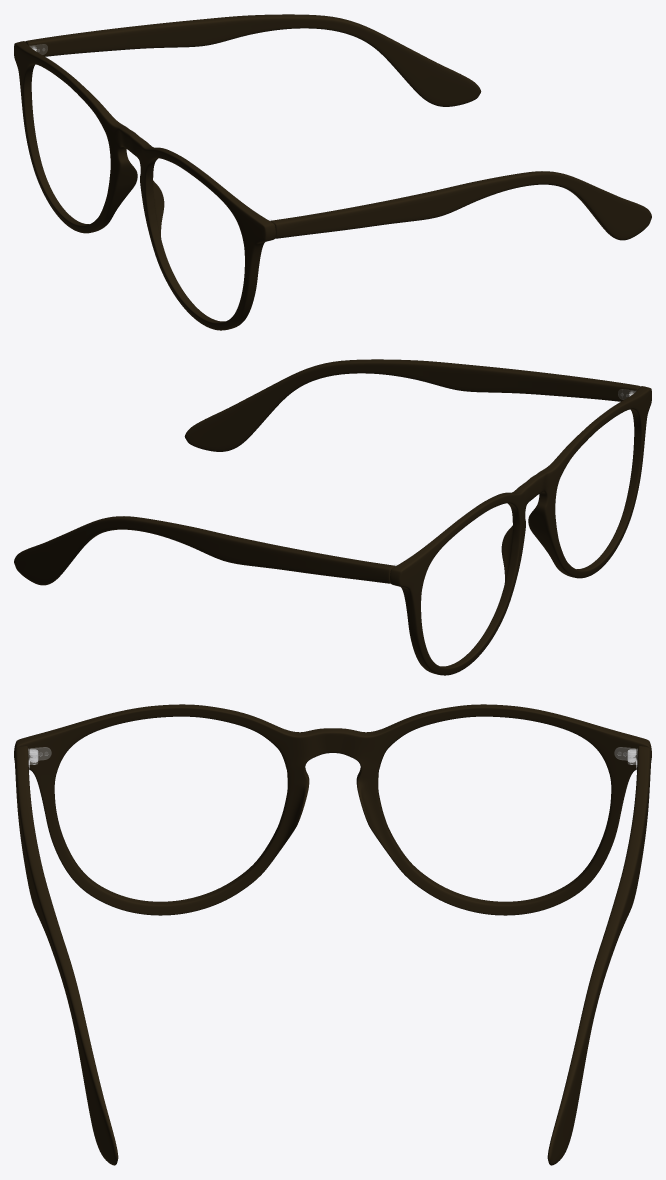
The model's file is glasses.gltf.
3 views of the same model, one above another, from view 1: azimuth 30°, elevation 25°; view 2: azimuth 150°, elevation 25°; view 3: azimuth 270°, elevation 25° (orthographic). The views are drawn at different scales.
Parts seen in each view (by area): view 1: Glasses; view 2: Glasses; view 3: Glasses.
Boxes of the visible parts, x1,y1,x2,y2 form: Glasses: (14,14,651,330); Glasses: (14,359,651,675); Glasses: (14,704,651,1165).
Size of what is drawn, in the model's own units: 94.41 by 32.45 by 93.12.
